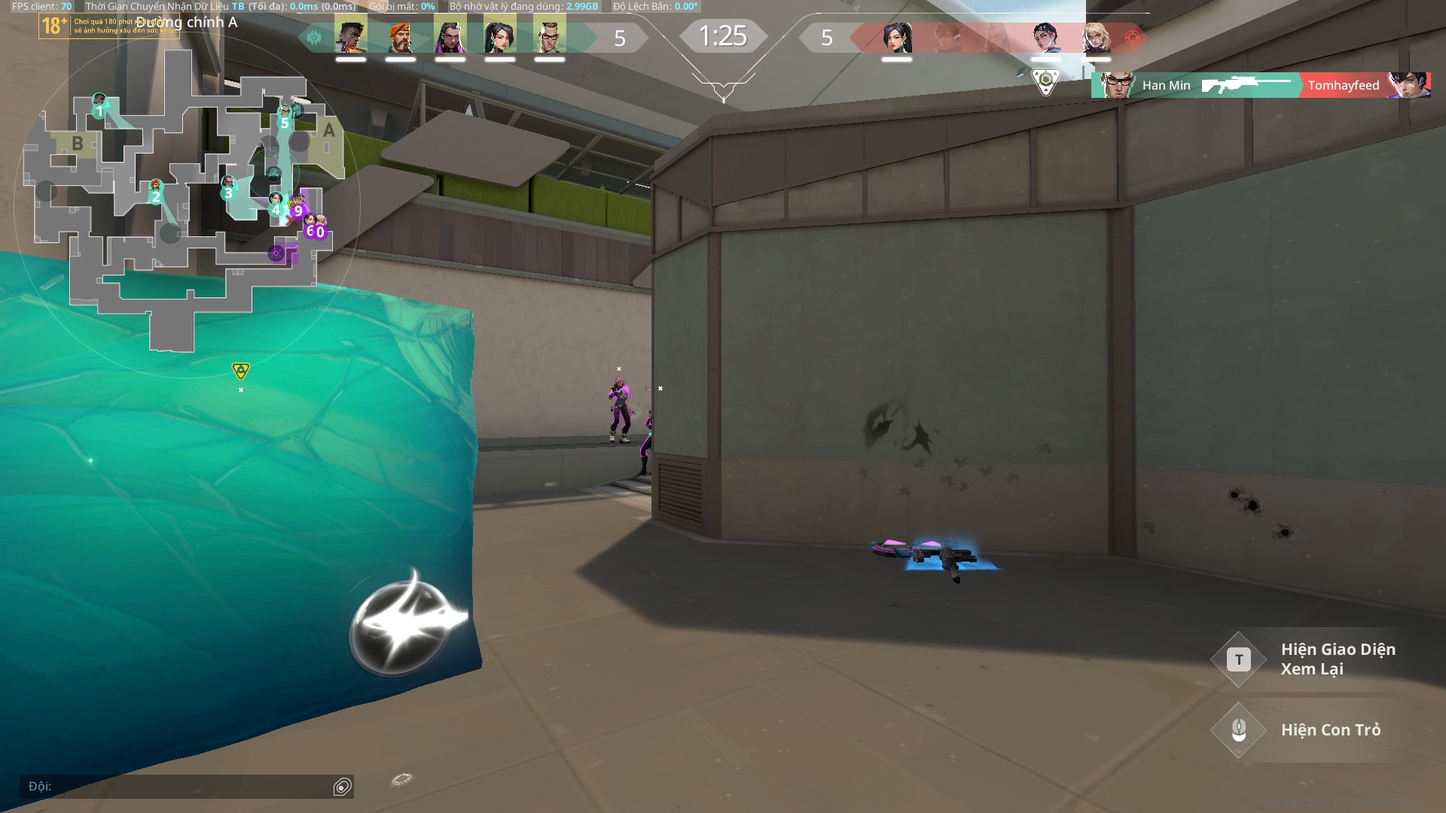body: (614, 384, 627, 403), (647, 409, 652, 429)
head: (615, 375, 623, 386)
